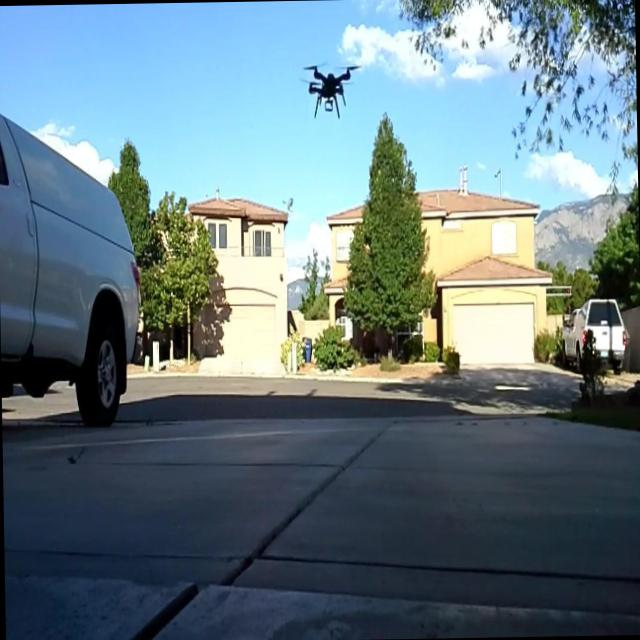drone: (298, 61, 362, 125)
